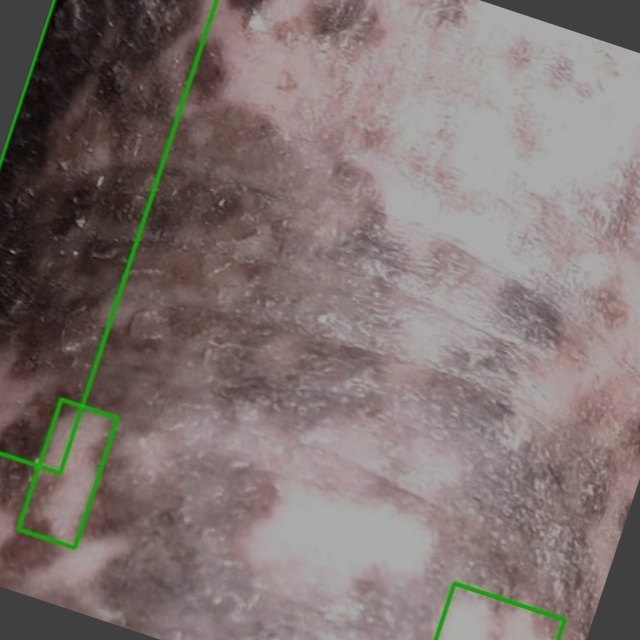Eczema: (0, 0, 216, 473), (18, 399, 117, 548)
